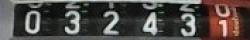digits: (24, 9, 41, 32), (64, 10, 80, 34), (102, 10, 118, 34), (141, 11, 158, 33), (179, 12, 195, 35), (219, 20, 228, 39)
